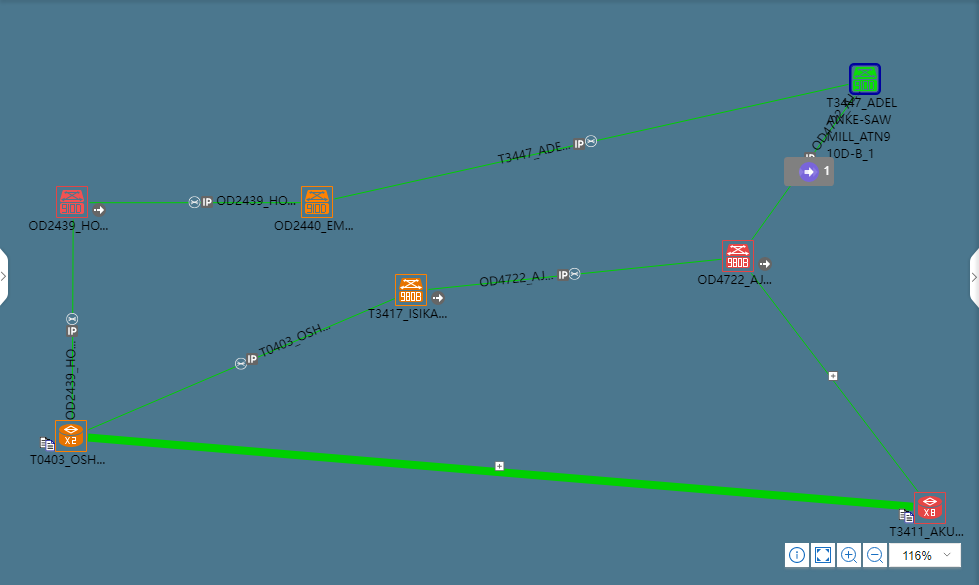ATN_Orange: (303, 185, 332, 221), (395, 277, 430, 305)
ATN_Red: (725, 240, 754, 276), (58, 185, 86, 221)
Link_Green: (333, 81, 846, 201), (113, 436, 846, 508), (211, 442, 913, 514), (89, 296, 390, 427), (750, 271, 916, 496), (431, 259, 699, 292), (811, 100, 851, 153), (750, 185, 789, 237)
Router_Red: (915, 491, 950, 520)
